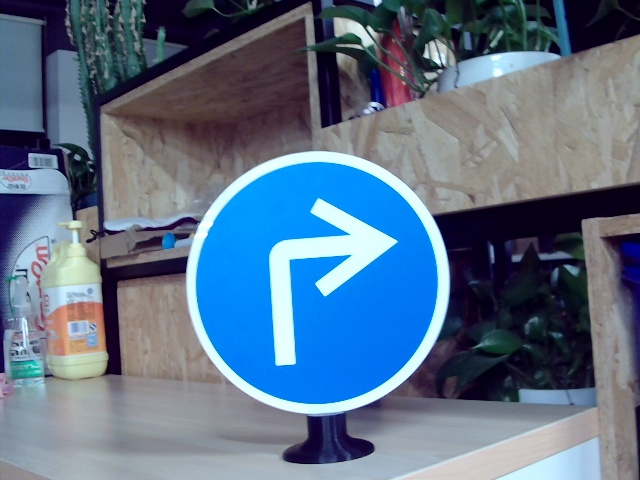turn_right: (251, 199, 394, 374)
